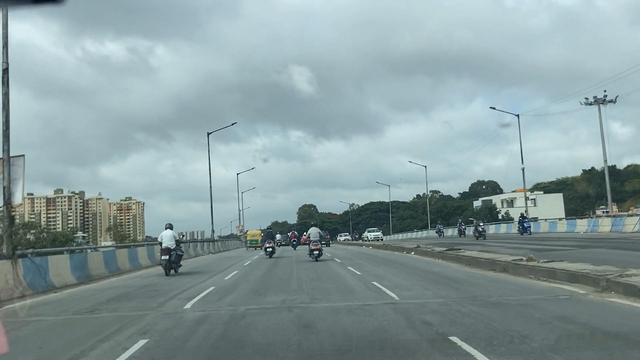LMV: (159, 223, 185, 281), (311, 222, 325, 257), (244, 227, 262, 251), (264, 224, 276, 260), (286, 224, 300, 252)
UnsurfacedRoad: (398, 289, 581, 309), (193, 301, 391, 316)
